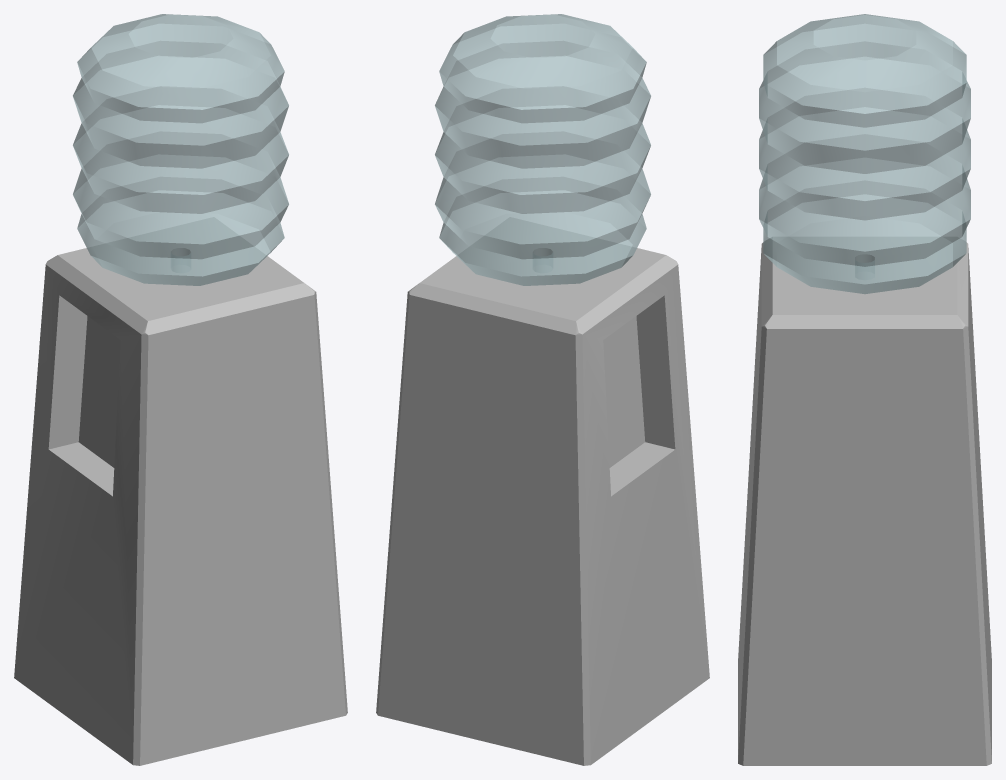
Rendered from WaterCooler_Prop.fbx.
3 renders of one model, left to right at view 1: azimuth 30°, elevation 25°; view 2: azimuth 150°, elevation 25°; view 3: azimuth 270°, elevation 25°, orthographic. The views are drawn at different scales.
Visible parts, largest first — view 1: WaterCoolerBase1; view 2: WaterCoolerBase1; view 3: WaterCoolerBase1.
Boxes of the visible parts, x1,y1,x2,y2 form: WaterCoolerBase1: (14,14,347,765); WaterCoolerBase1: (376,14,709,765); WaterCoolerBase1: (738,14,991,765).
Bounding box in the file's own units: 7.08 × 20.76 × 7.08.
